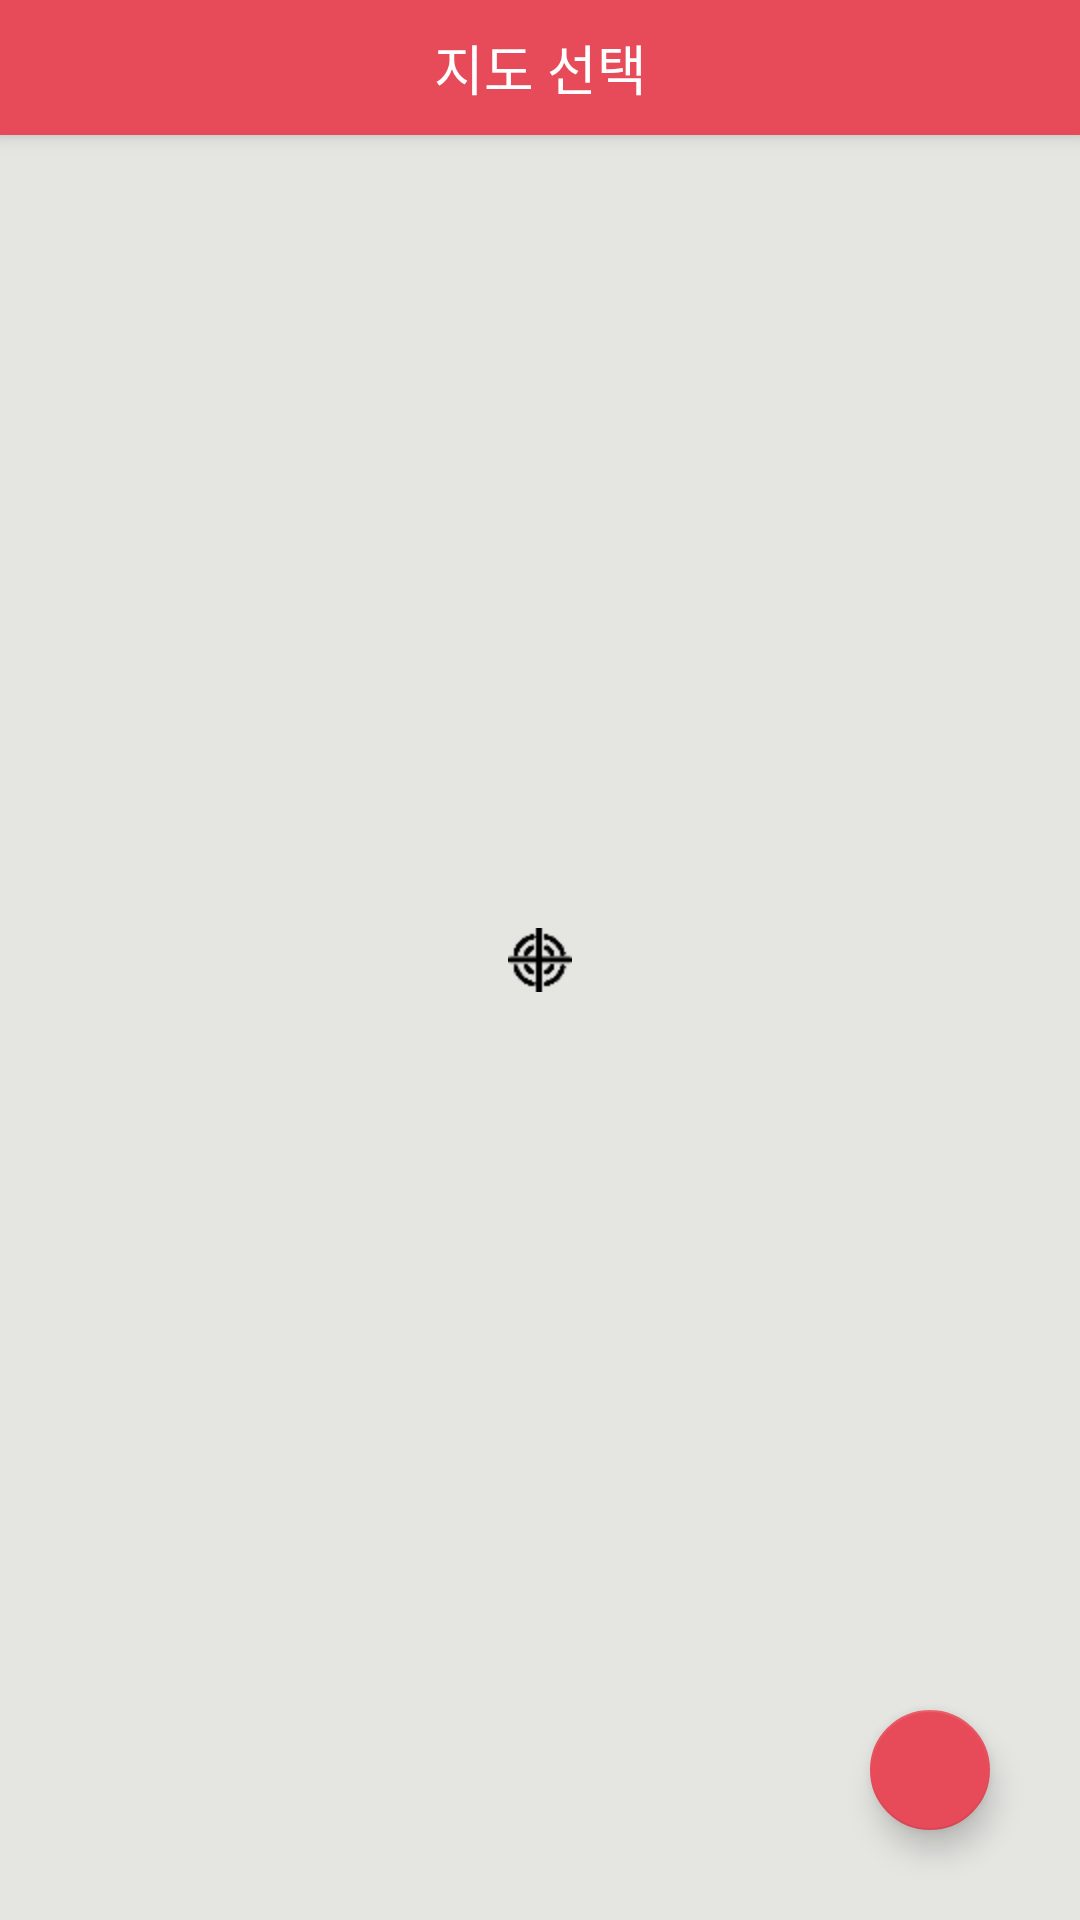

Named icons in this screenshot (1080px x 1920px) and their centers, [x,y]:
map aim: [540,960]
